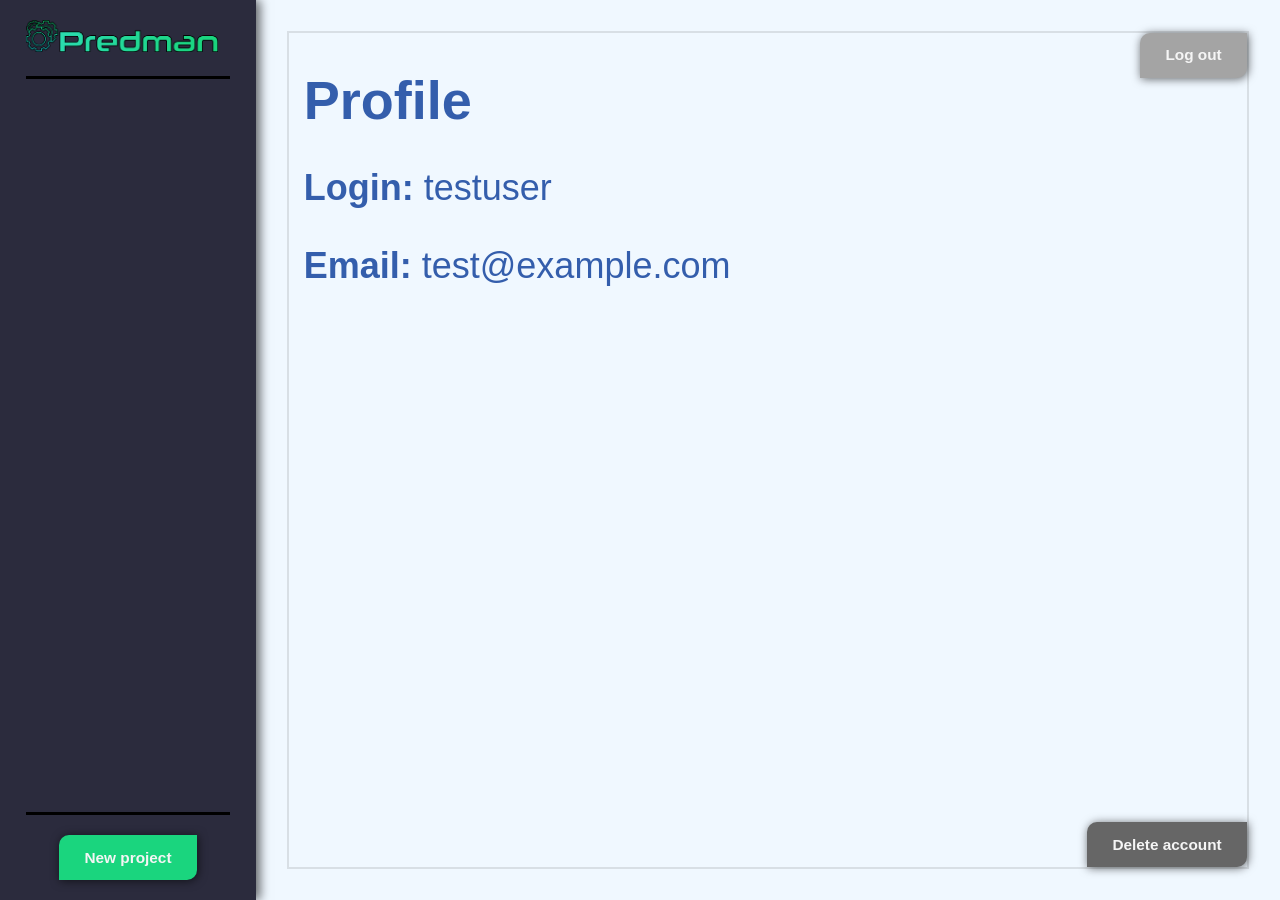
Test: Profile component › clicking delete account button opens confirmation modal
Step 1. Click the button "Delete account" → (1167, 845), box [1087,822,1247,867]
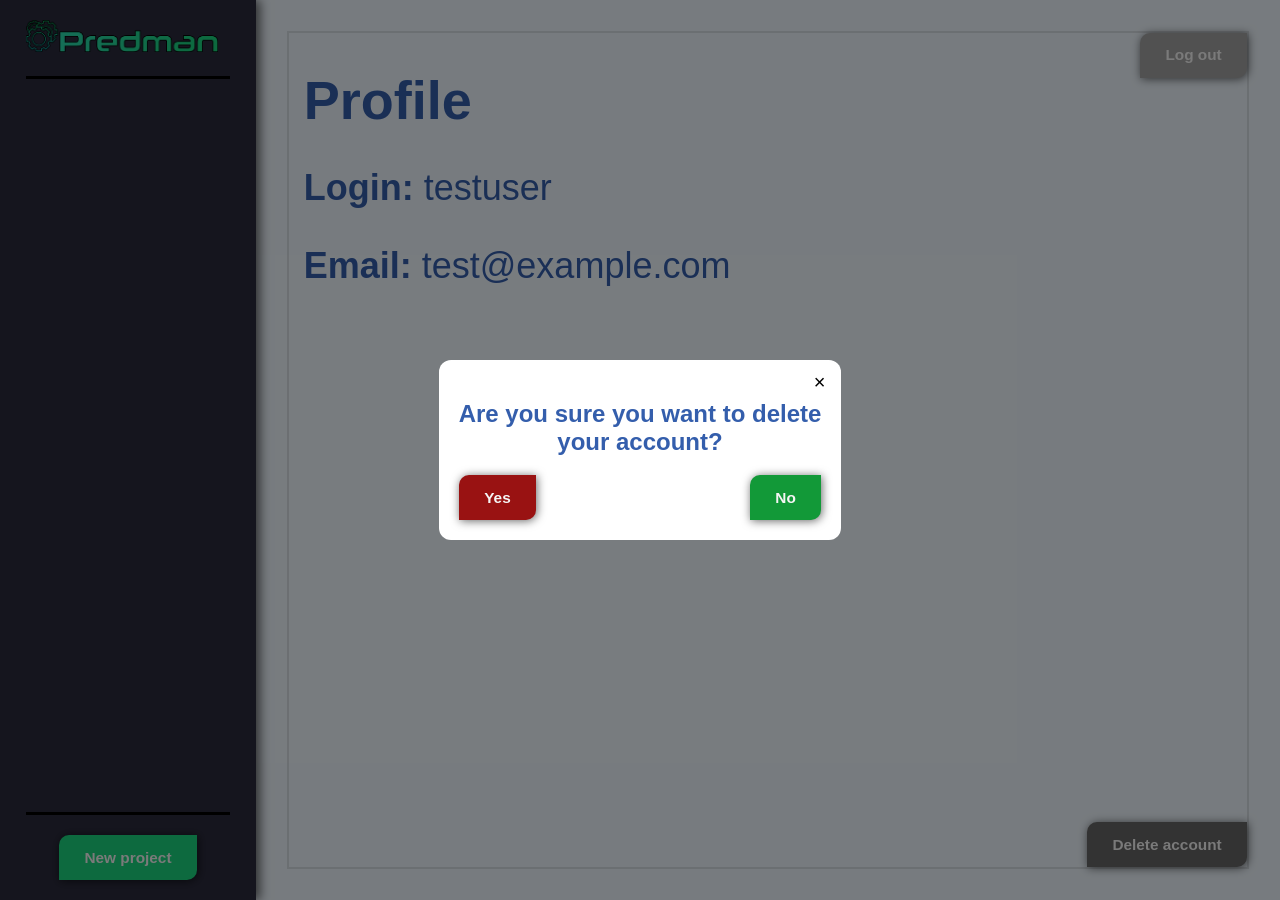
Result: the heading "Are you sure you want to delete your account?" is shown at [459,400,821,456]
